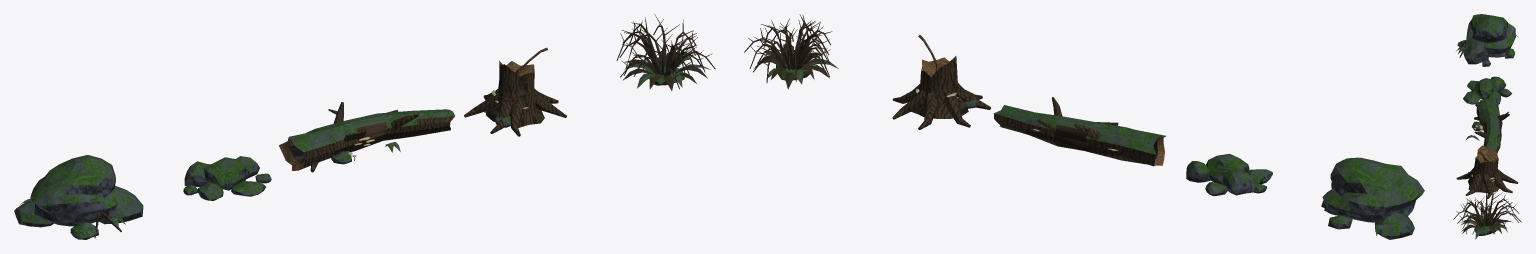
File: ForestProps_Pack1_Ground.glb
The picture shows the model from 3 angles, left to right: view 1: azimuth 30°, elevation 25°; view 2: azimuth 150°, elevation 25°; view 3: azimuth 270°, elevation 25°; orthographic projection. The views are drawn at different scales.
Parts seen in each view (by area): view 1: Prop_Boulder_Mossy, Prop_FallenLog_Rotted, Prop_TreeStump_Old, Prop_BrambleBush_Dead, Prop_RockCluster_Small; view 2: Prop_Boulder_Mossy, Prop_FallenLog_Rotted, Prop_TreeStump_Old, Prop_BrambleBush_Dead, Prop_RockCluster_Small; view 3: Prop_Boulder_Mossy, Prop_TreeStump_Old, Prop_BrambleBush_Dead, Prop_FallenLog_Rotted, Prop_RockCluster_Small.
Boxes of the visible parts, x1,y1,x2,y2 form: Prop_Boulder_Mossy: [14, 155, 143, 239]; Prop_FallenLog_Rotted: [279, 102, 454, 172]; Prop_TreeStump_Old: [464, 47, 566, 136]; Prop_BrambleBush_Dead: [616, 14, 715, 90]; Prop_RockCluster_Small: [183, 156, 271, 200]; Prop_Boulder_Mossy: [1321, 157, 1424, 239]; Prop_FallenLog_Rotted: [993, 97, 1165, 166]; Prop_TreeStump_Old: [892, 35, 990, 129]; Prop_BrambleBush_Dead: [744, 14, 838, 89]; Prop_RockCluster_Small: [1186, 154, 1272, 196]; Prop_Boulder_Mossy: [1456, 14, 1518, 66]; Prop_TreeStump_Old: [1456, 145, 1518, 198]; Prop_BrambleBush_Dead: [1453, 188, 1521, 239]; Prop_FallenLog_Rotted: [1466, 98, 1509, 153]; Prop_RockCluster_Small: [1463, 76, 1511, 106].
Size of the model in its own units: 18.56 by 1.75 by 2.59.
1 material, 1 textured.
